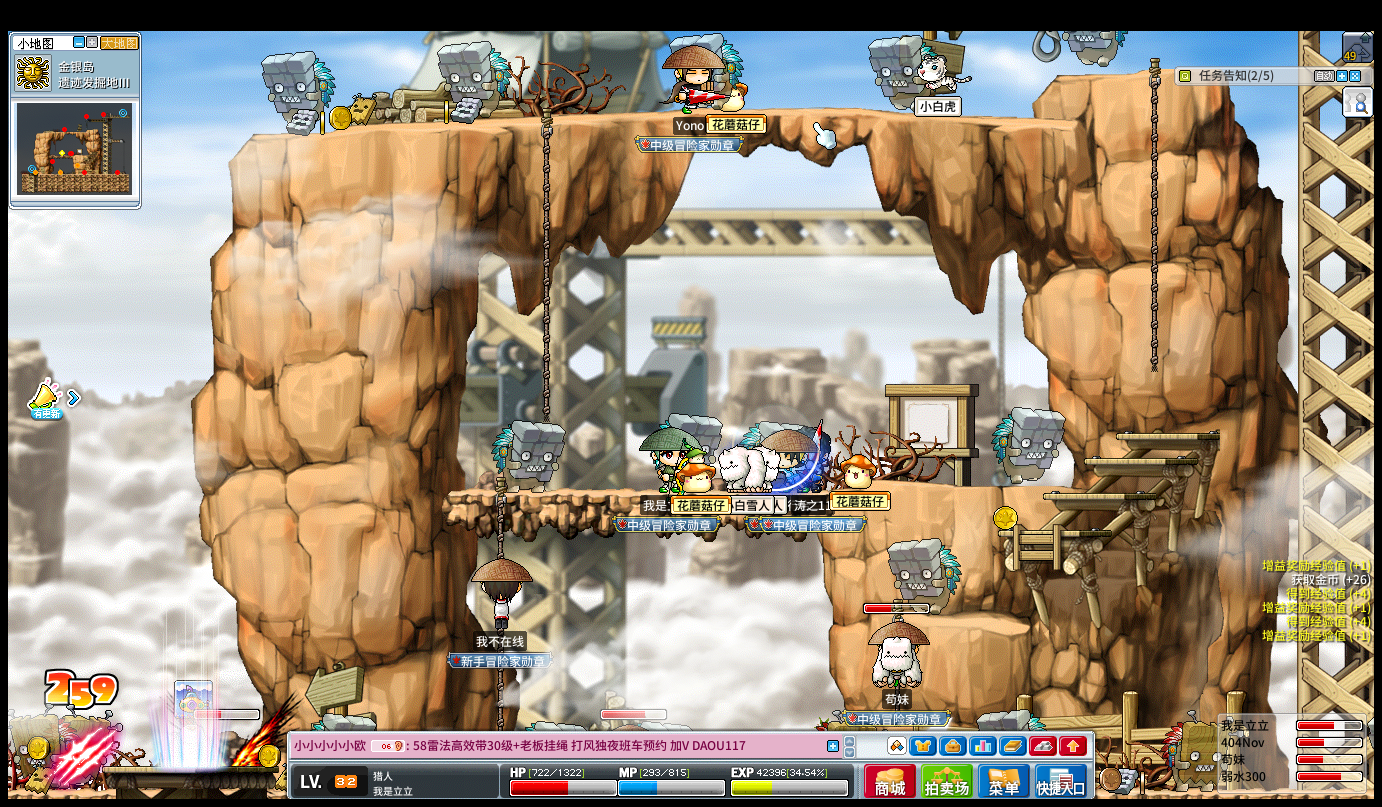floor: (248, 108, 1080, 141), (447, 488, 840, 500), (911, 612, 1028, 633), (446, 488, 664, 499), (879, 480, 1082, 491), (1053, 66, 1174, 78), (1115, 429, 1220, 441), (999, 528, 1111, 537), (1044, 492, 1157, 500), (1079, 457, 1198, 464)
monster: (6, 706, 103, 789), (1163, 710, 1248, 789), (261, 50, 336, 137), (437, 37, 510, 123), (886, 538, 962, 615), (990, 406, 1062, 485), (491, 419, 566, 493), (866, 32, 926, 113)
rope: (1146, 58, 1163, 371), (541, 109, 551, 423), (492, 483, 506, 560), (285, 214, 295, 281)
